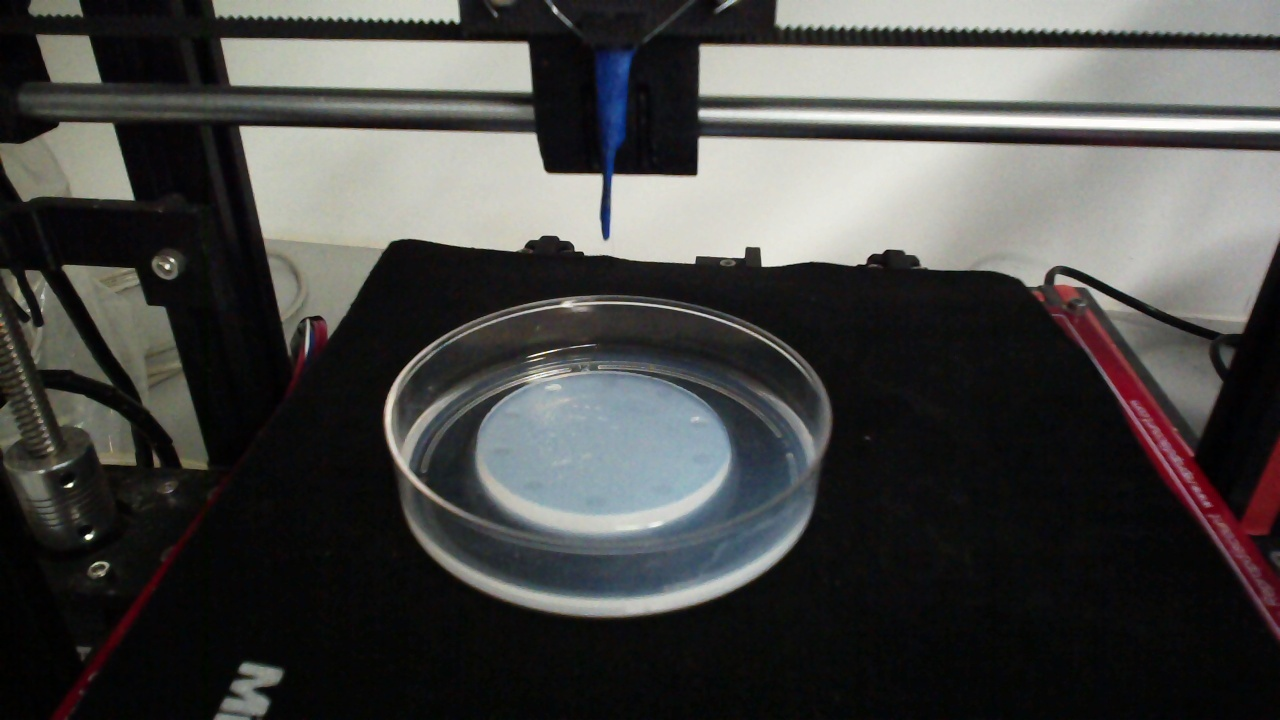groove: (690, 452, 713, 468), (649, 481, 671, 497), (585, 494, 605, 509), (688, 416, 709, 430), (521, 479, 543, 492), (502, 408, 522, 422), (491, 445, 512, 458), (655, 386, 674, 400), (599, 376, 618, 390), (544, 383, 562, 397)
needle: (597, 55, 631, 241)
